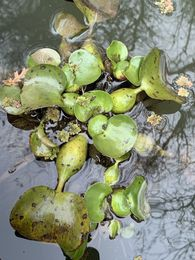water_hyacinth: (2, 33, 180, 260)
